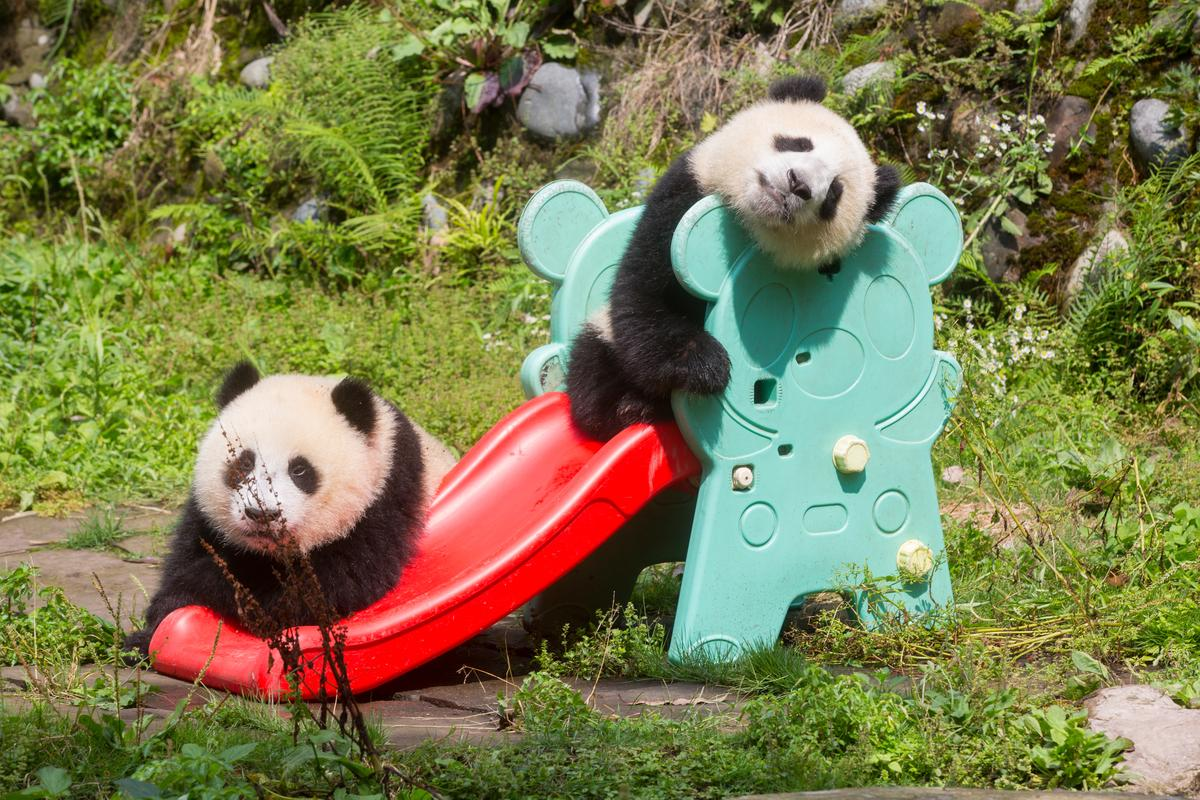panda: (557, 73, 903, 445), (132, 356, 460, 686)
